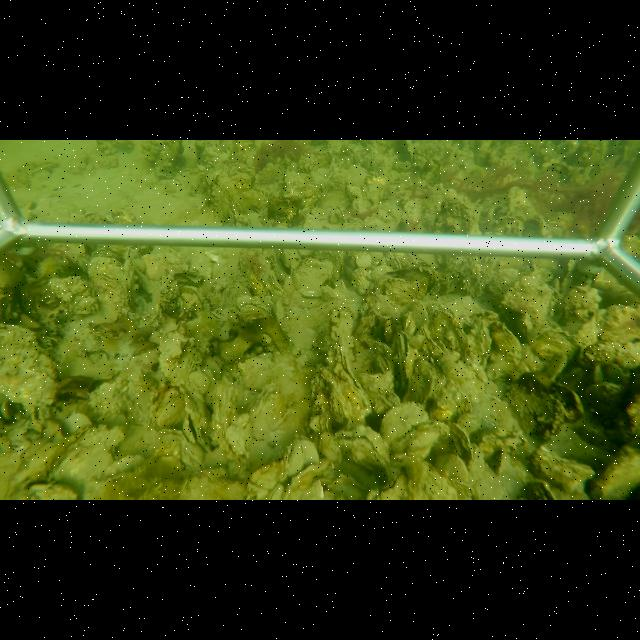Oyster-Closed: (1, 323, 58, 413), (434, 194, 482, 280), (529, 444, 595, 491), (332, 336, 372, 412), (372, 262, 436, 308), (529, 327, 581, 381), (335, 423, 392, 472), (380, 399, 433, 445), (590, 452, 640, 499), (402, 357, 446, 409), (431, 305, 470, 360), (487, 321, 523, 380), (88, 270, 128, 322), (294, 257, 334, 293), (449, 419, 475, 466), (401, 296, 430, 328), (283, 438, 307, 476), (236, 301, 272, 323), (271, 300, 285, 324)
Oyster-Open: (395, 328, 419, 382), (180, 410, 208, 452), (368, 473, 408, 500)
